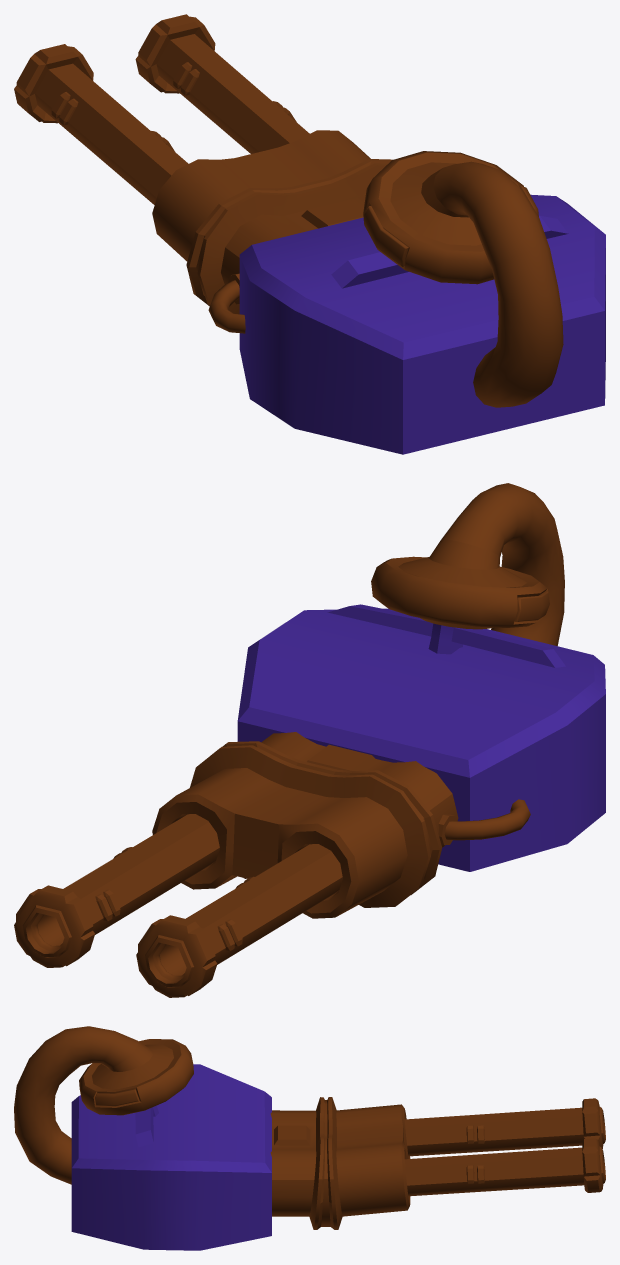
Rendered from Duos.fbx.
3 renders of one model, top to bottom at view 1: azimuth 30°, elevation 25°; view 2: azimuth 150°, elevation 25°; view 3: azimuth 270°, elevation 25°, orthographic. The views are drawn at different scales.
Visible parts, largest first — view 1: parts1, body1; view 2: parts1, body1; view 3: parts1, body1.
Part boxes in pixels (left/top/right/bottom): parts1: left=14, top=14, right=563, bottom=407; body1: left=239, top=194, right=605, bottom=454; parts1: left=14, top=483, right=564, bottom=997; body1: left=237, top=604, right=605, bottom=871; parts1: left=14, top=1026, right=605, bottom=1229; body1: left=71, top=1064, right=271, bottom=1250.
Bounding box in the file's own units: 26.45 × 20.99 × 63.52.
